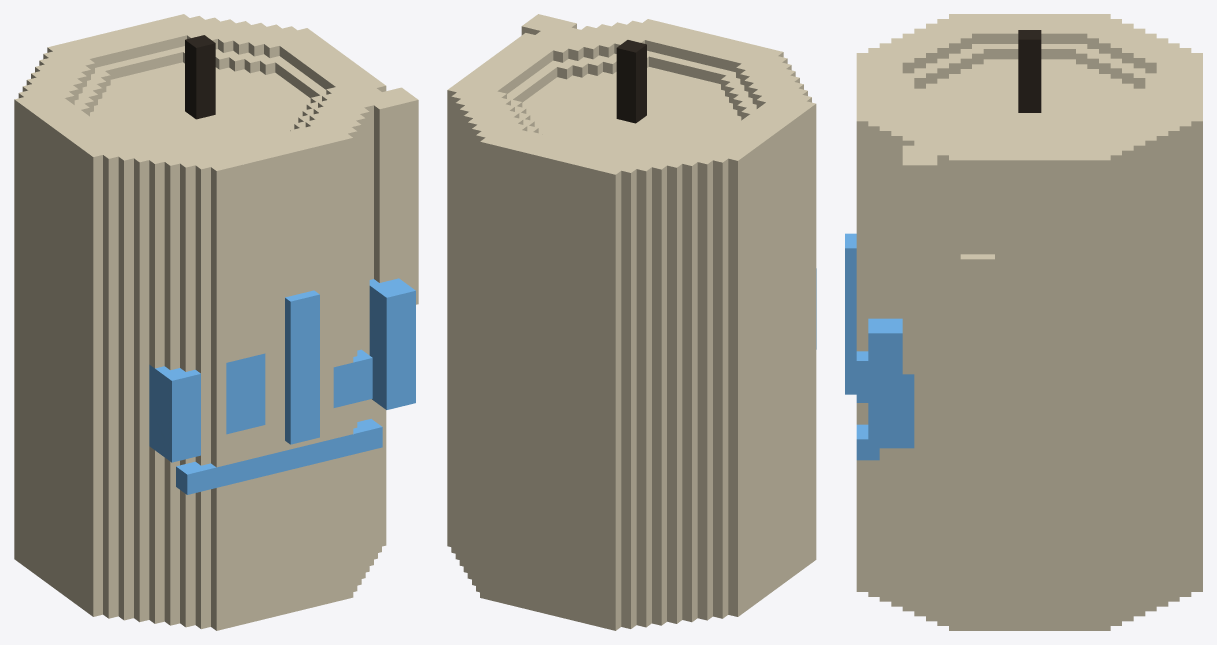
The model's file is kelvinist_booster_1.glb.
3 renders of one model, left to right at view 1: azimuth 30°, elevation 25°; view 2: azimuth 150°, elevation 25°; view 3: azimuth 270°, elevation 25°, orthographic. The views are drawn at different scales.
Parts seen in each view (by area): view 1: kelvinist_booster_1:compound; view 2: kelvinist_booster_1:compound; view 3: kelvinist_booster_1:compound.
Part boxes in pixels (left/top/right/bottom): kelvinist_booster_1:compound: left=14, top=14, right=418, bottom=630; kelvinist_booster_1:compound: left=447, top=14, right=816, bottom=630; kelvinist_booster_1:compound: left=845, top=14, right=1202, bottom=630.
Bounding box in the file's own units: 0.062 × 0.1 × 0.062.
